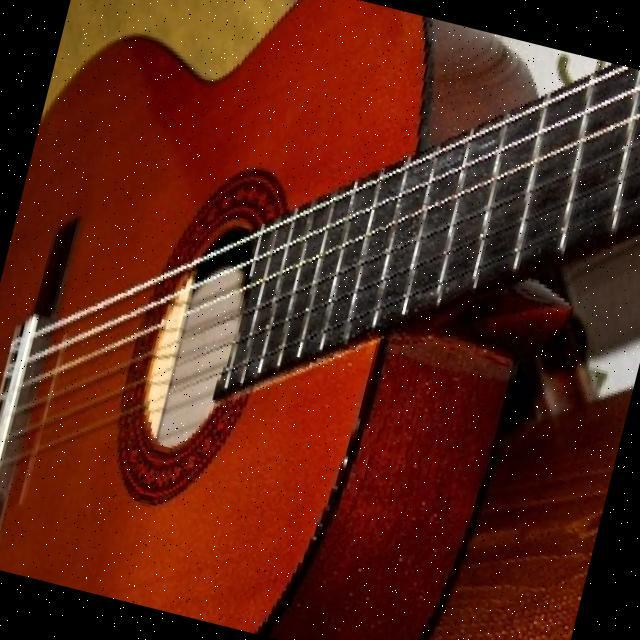acousticguitar: (0, 1, 638, 637)
